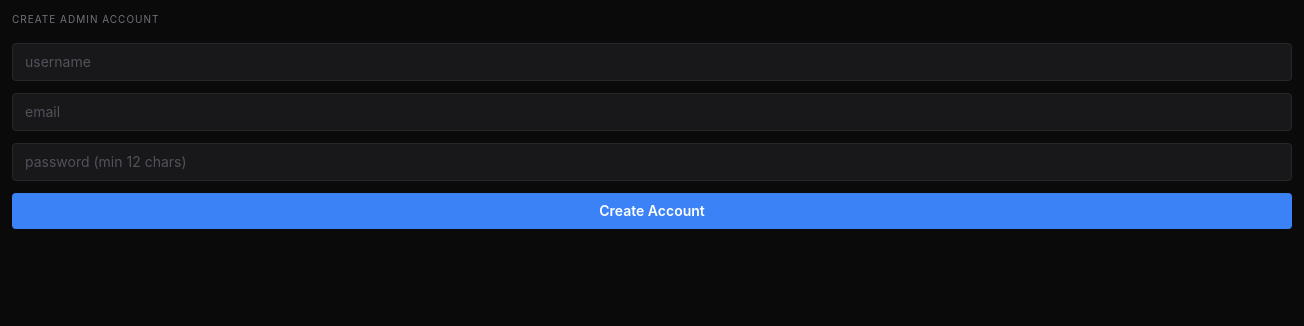
Test: SetupPage › clears password errors when valid password entered
Type "weak" into the password field with placeholder "password (min 12 chars)" at (652, 162), box x1=12 y1=143 x2=1292 y2=181
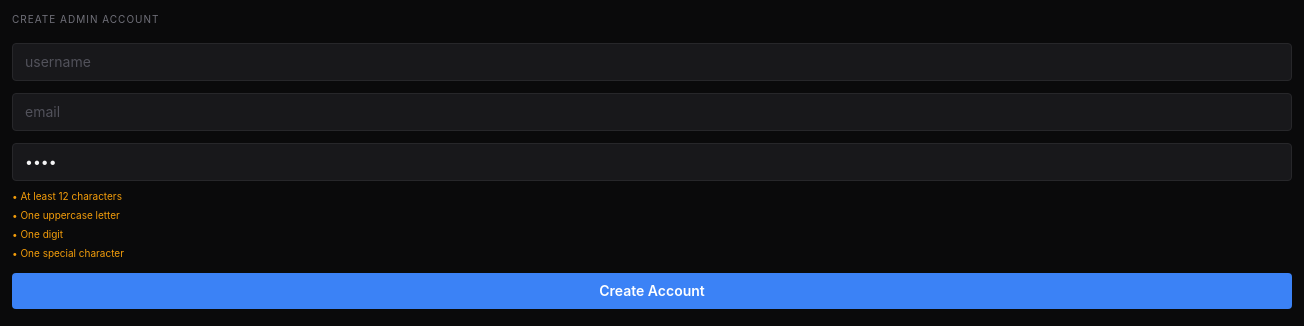
expect the text "• At least 12 characters" is shown: met, box x1=12 y1=190 x2=122 y2=202
Type "ValidPass1@#$" into the password field with placeholder "password (min 12 chars)" at (652, 162), box x1=12 y1=143 x2=1292 y2=181
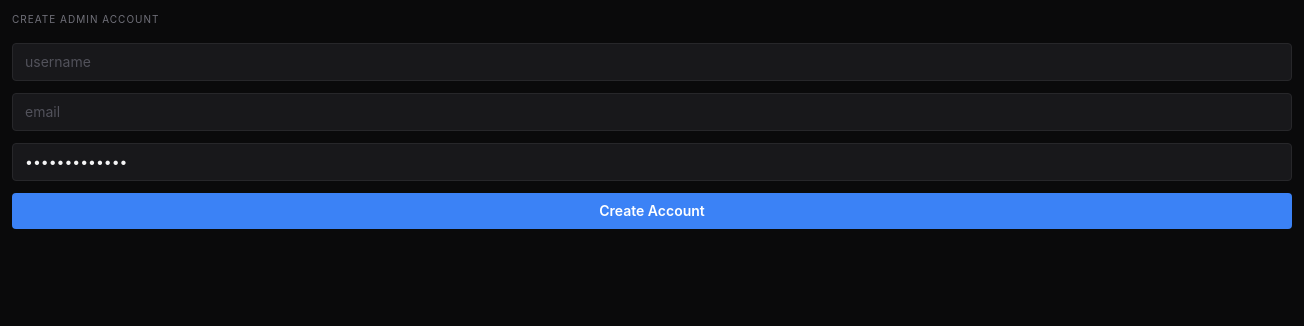
expect the text "At least 12 characters" is gone: met
